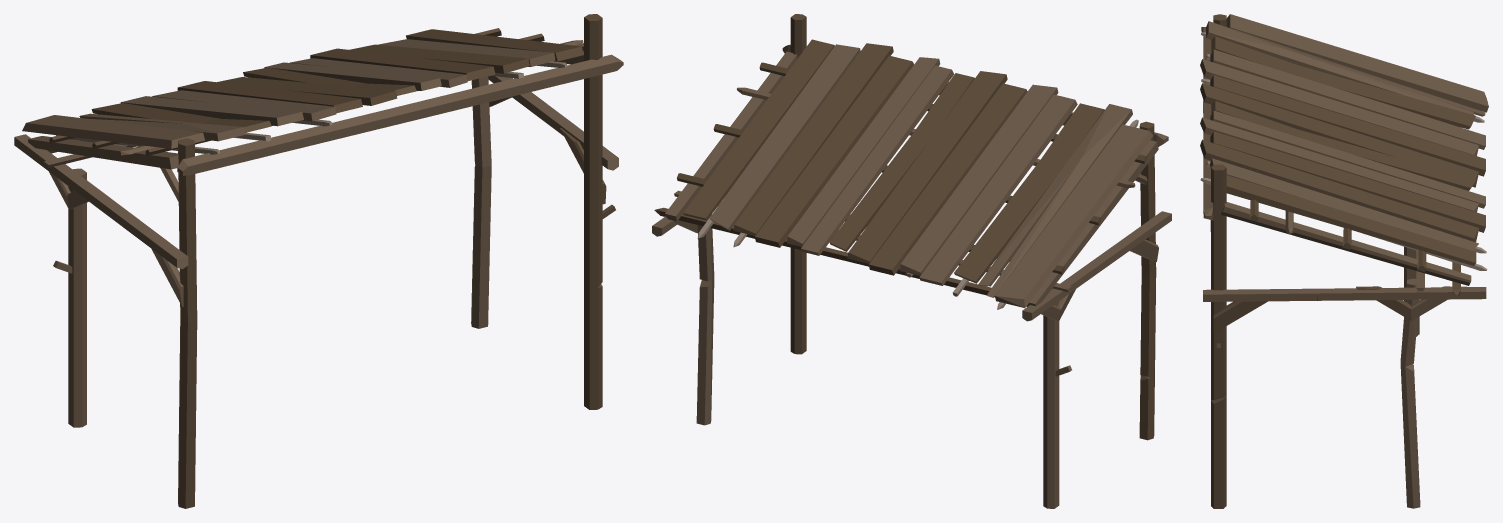
File: EA03_Village_OutBuilding_WoodRoof_01b.glb
The picture shows the model from 3 angles, left to right: view 1: azimuth 30°, elevation 25°; view 2: azimuth 150°, elevation 25°; view 3: azimuth 270°, elevation 25°; orthographic projection. The views are drawn at different scales.
Parts seen in each view (by area): view 1: EA03_Village_OutBuilding_WoodRoof_01b; view 2: EA03_Village_OutBuilding_WoodRoof_01b; view 3: EA03_Village_OutBuilding_WoodRoof_01b.
Part boxes in pixels (x1=…): EA03_Village_OutBuilding_WoodRoof_01b: x1=14, y1=14, x2=623, y2=508; EA03_Village_OutBuilding_WoodRoof_01b: x1=652, y1=14, x2=1171, y2=508; EA03_Village_OutBuilding_WoodRoof_01b: x1=1200, y1=14, x2=1488, y2=508.
Size of the model in its own units: 5.17 by 4.16 by 3.21.
Materials: 1 (1 with a texture image).
